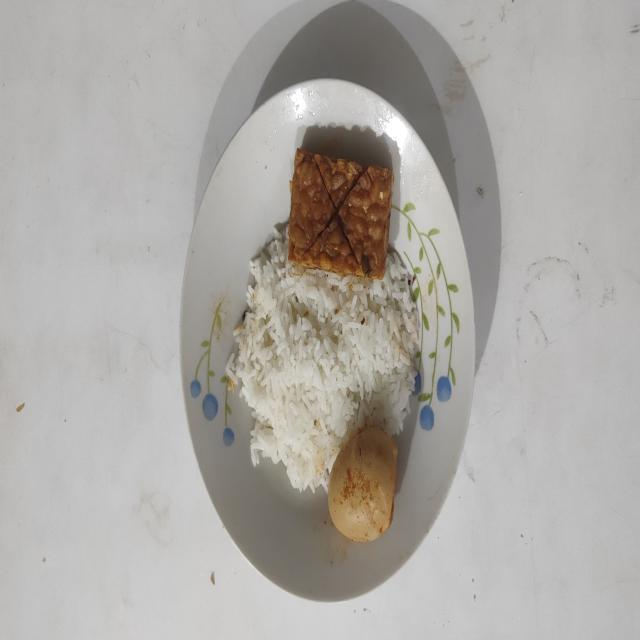nasi_putih: (226, 226, 419, 492)
tempe_goreng: (289, 148, 393, 278)
